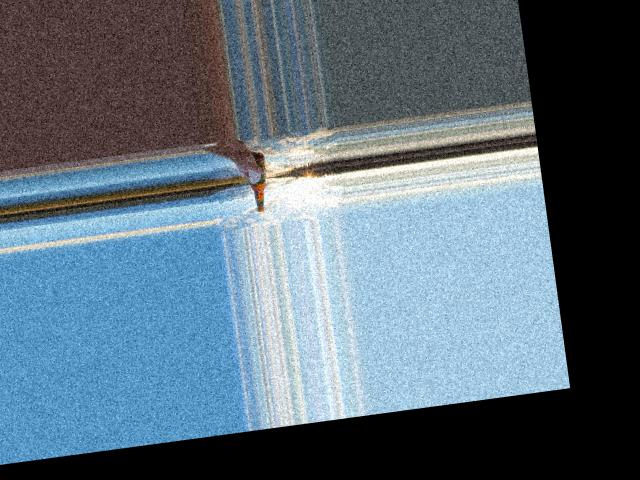beer: (246, 154, 272, 213)
